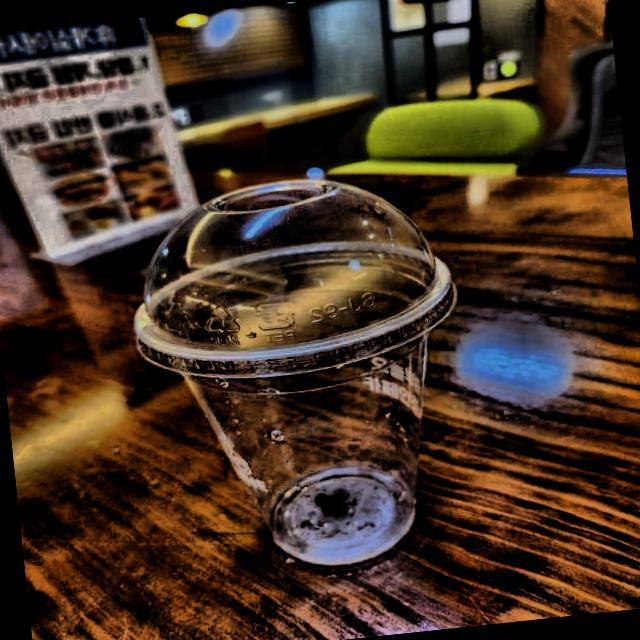plastic cup: (104, 133, 526, 616)
